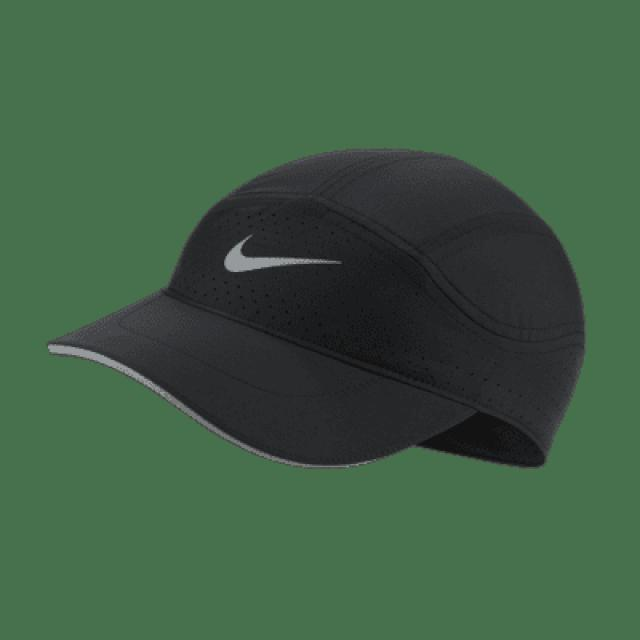mask: (36, 134, 588, 525)
